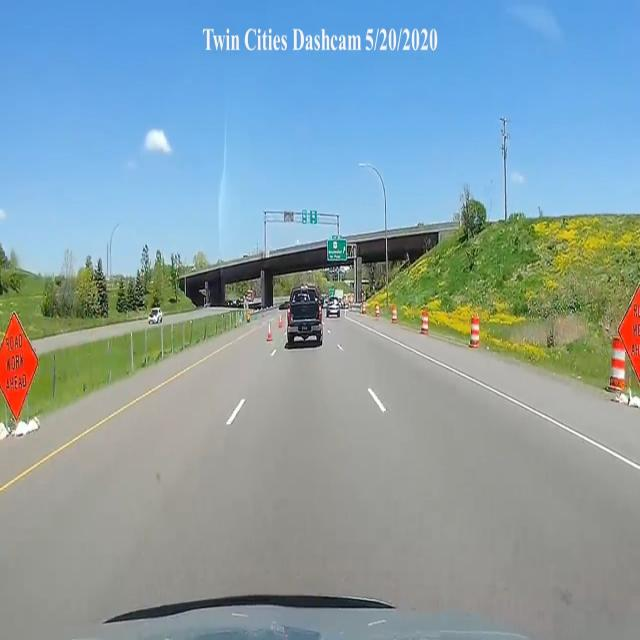Traffic Cone: (266, 322, 273, 345)
